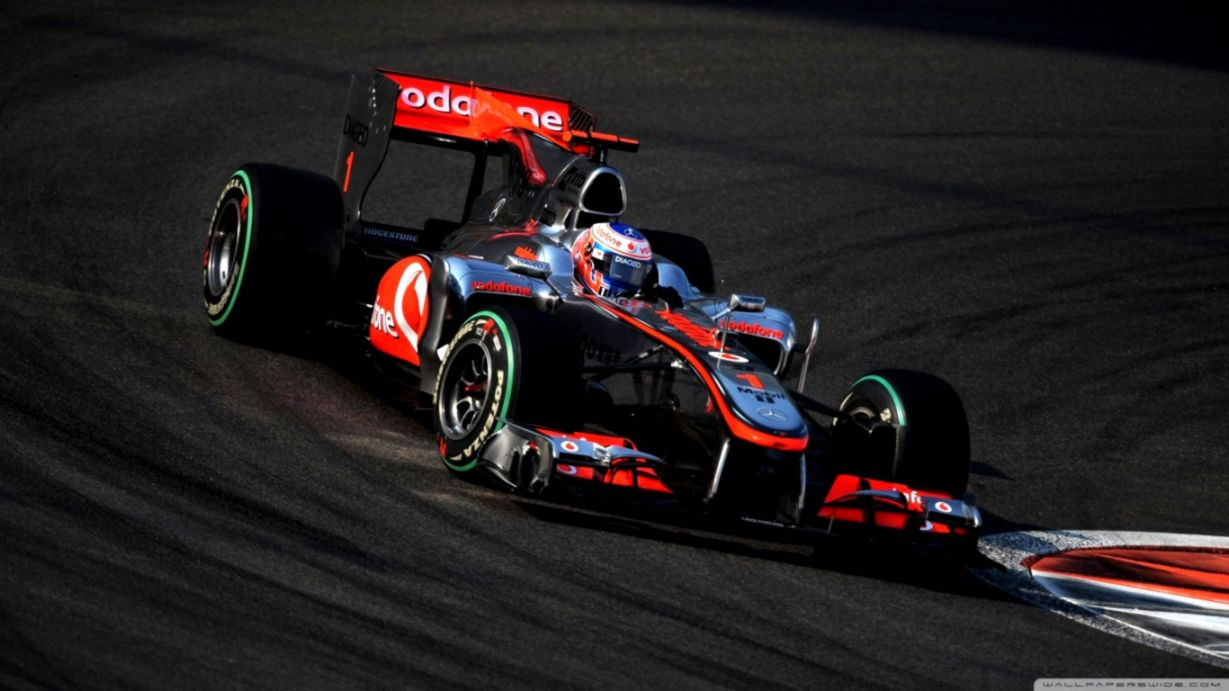f1_car: (164, 52, 998, 575)
helmet: (565, 213, 668, 330)
